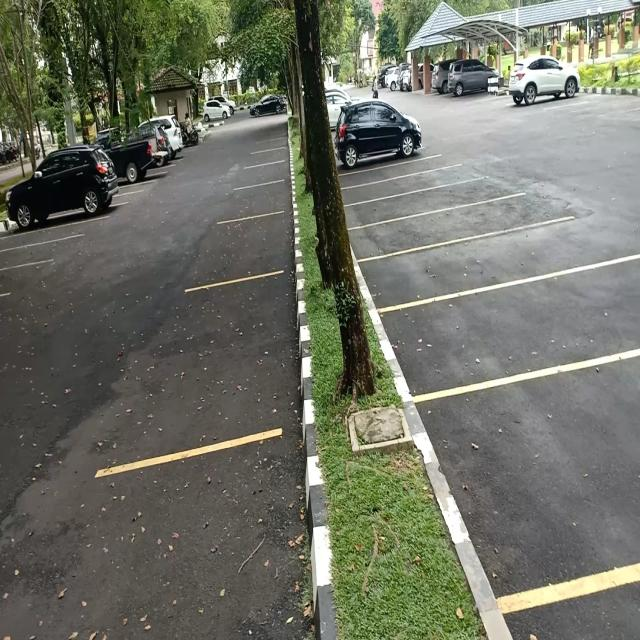empty: (468, 365, 640, 590), (181, 274, 301, 442), (419, 286, 622, 379), (384, 237, 541, 297), (214, 215, 294, 275), (356, 190, 453, 217), (394, 212, 480, 235), (229, 182, 290, 214), (1, 227, 86, 244), (0, 242, 64, 262)
occupied: (4, 173, 120, 233), (333, 117, 428, 175)
